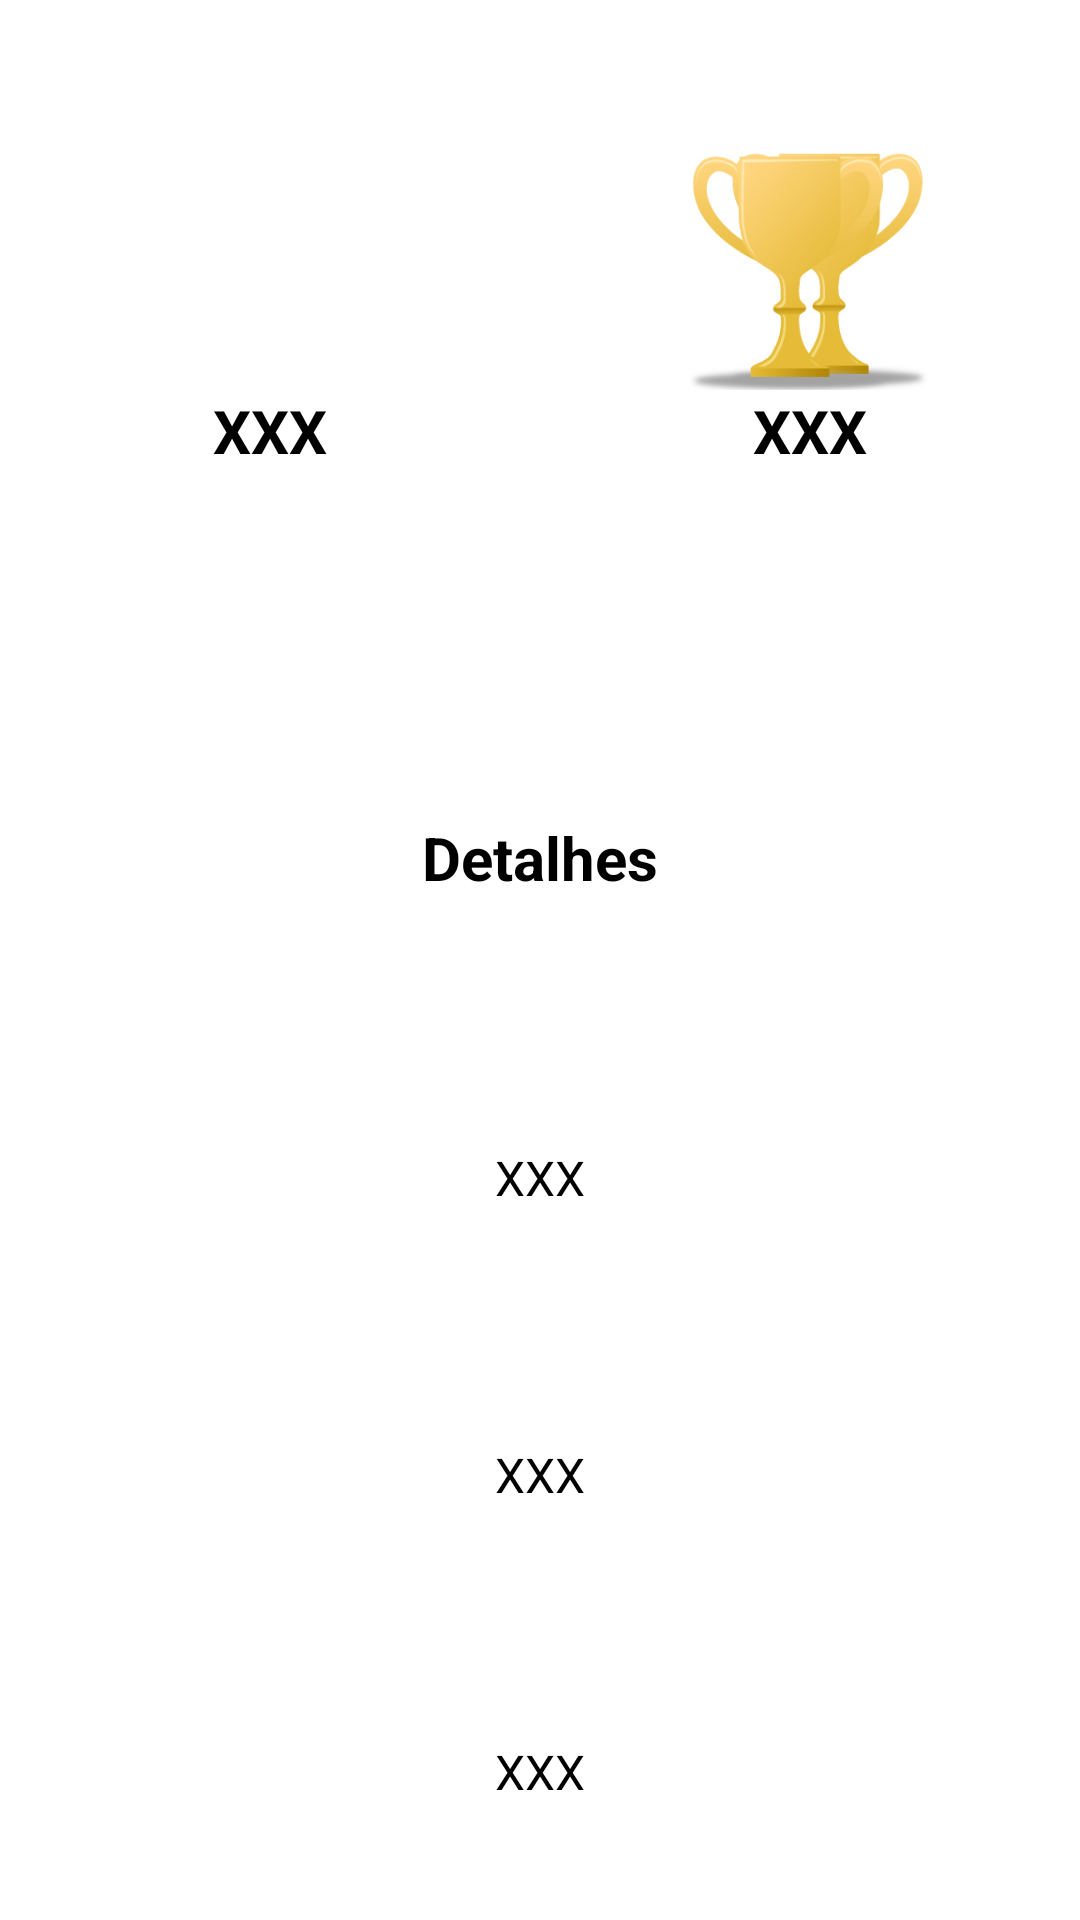

Icon bounding boxes for this 1080×1920 phone screenshot, format [x1,y1,x2,y2]:
trophy: [693,153,923,390]
